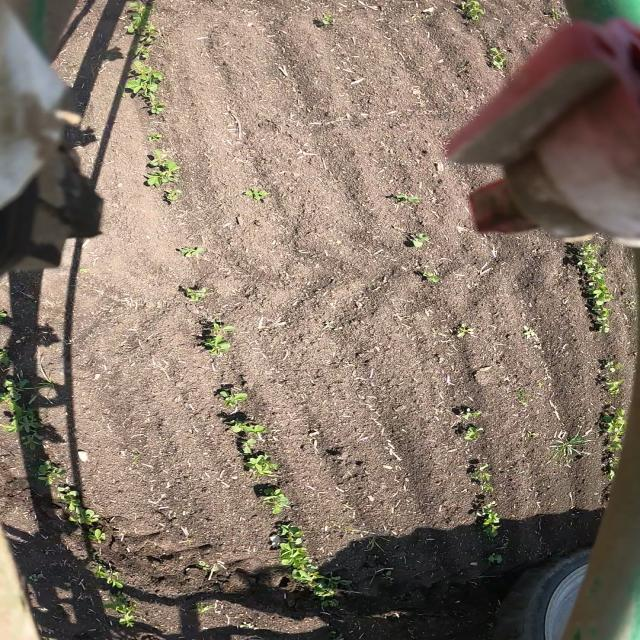plants: (177, 315, 246, 360), (562, 245, 622, 276), (545, 428, 593, 466), (143, 148, 186, 188), (118, 64, 170, 97), (274, 550, 333, 578), (600, 427, 623, 498), (472, 497, 506, 545), (80, 564, 136, 592), (572, 277, 618, 307), (477, 43, 518, 76), (578, 401, 630, 427), (510, 321, 548, 356), (301, 581, 351, 607), (4, 406, 46, 436), (56, 499, 104, 524), (463, 461, 498, 495), (410, 262, 452, 290), (207, 382, 249, 410), (263, 525, 310, 549), (592, 371, 630, 399), (33, 458, 77, 482), (458, 0, 499, 25), (122, 19, 167, 41), (243, 454, 284, 478), (30, 372, 65, 400), (97, 590, 144, 610), (178, 284, 227, 303), (0, 373, 29, 405), (257, 489, 291, 515), (196, 558, 236, 580), (394, 227, 430, 251), (133, 98, 176, 118), (586, 307, 619, 333), (456, 419, 491, 442), (227, 419, 274, 436), (15, 436, 57, 455), (448, 319, 482, 342), (594, 353, 632, 373), (240, 183, 276, 204), (476, 551, 524, 566), (48, 482, 85, 500), (109, 610, 144, 629), (169, 243, 208, 260), (446, 401, 483, 418), (386, 188, 421, 205), (76, 527, 113, 543), (233, 437, 265, 455), (361, 528, 387, 550), (311, 11, 340, 29), (540, 1, 564, 22), (122, 43, 152, 59), (137, 132, 171, 146), (66, 264, 99, 278), (184, 603, 212, 617), (0, 345, 17, 367), (128, 3, 156, 16), (161, 190, 185, 204), (379, 566, 399, 580), (0, 307, 14, 321)
